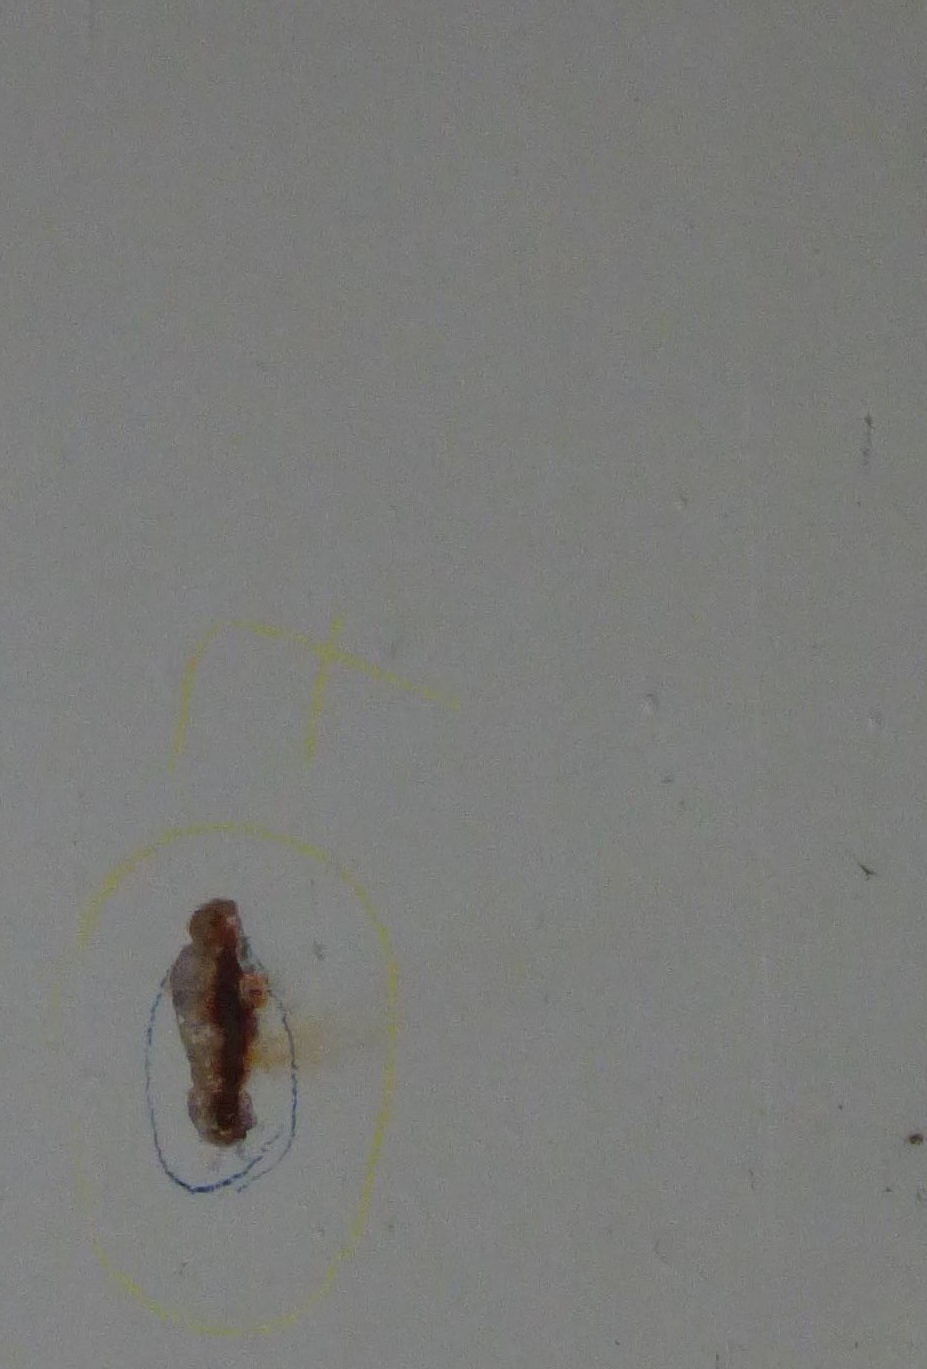Exposed reinforcement: (213, 944, 247, 1127)
Spalling: (169, 898, 264, 1149)
